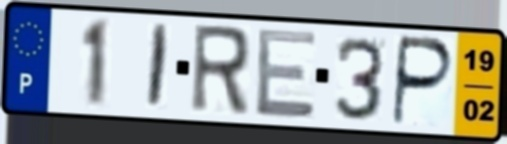1: (80, 15, 116, 111)
3: (333, 34, 387, 123)
E: (254, 25, 319, 120)
I: (144, 21, 173, 111)
P: (389, 33, 457, 129)
R: (187, 22, 253, 119)
